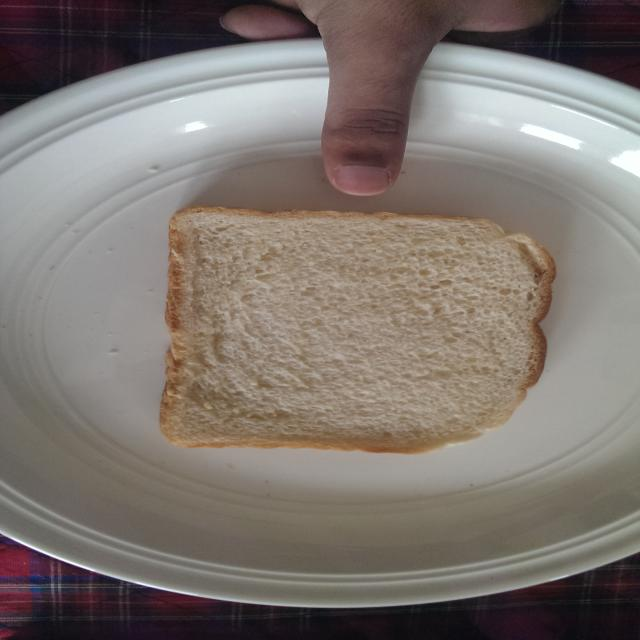bread: (154, 204, 566, 473)
